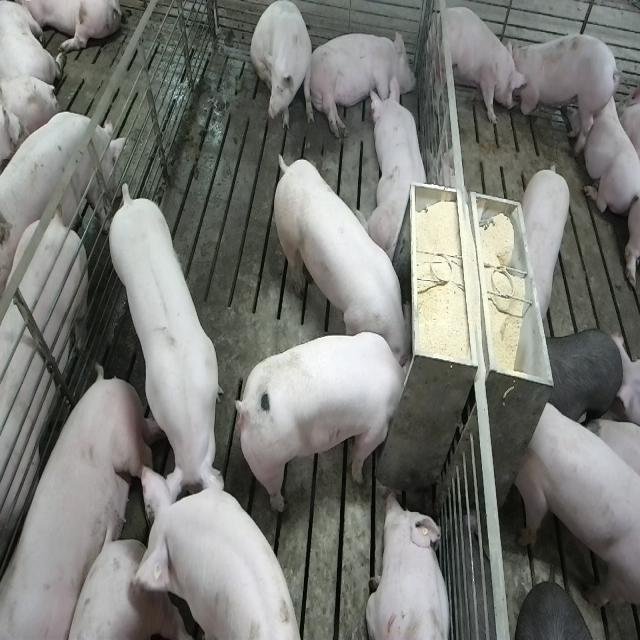Feeding: (244, 330, 419, 516), (269, 146, 411, 363)
Lateral_lying: (4, 366, 156, 640), (306, 26, 416, 139)
Sitting: (251, 3, 315, 140)
Standing: (103, 183, 224, 519), (0, 211, 90, 584), (130, 467, 299, 640), (516, 395, 638, 630), (0, 106, 122, 274), (513, 28, 618, 152), (432, 5, 522, 130), (520, 161, 574, 325), (545, 323, 627, 424)
Sternal_lying: (366, 490, 453, 640), (364, 75, 431, 261), (577, 80, 639, 214)
